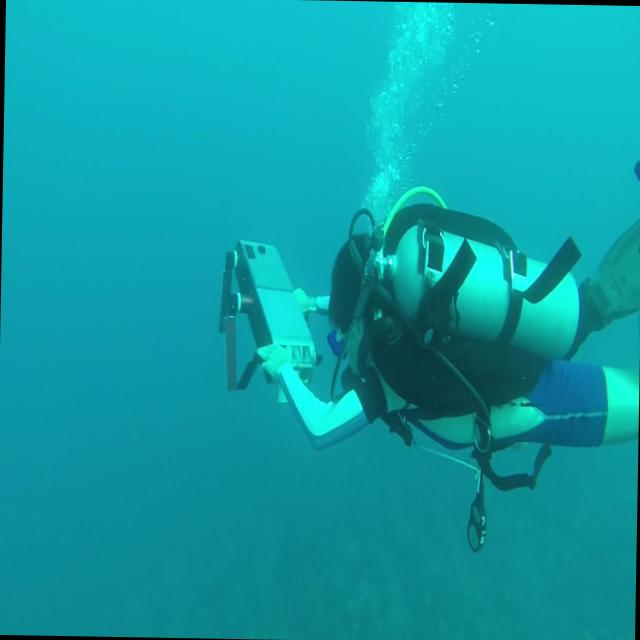human: (249, 128, 640, 553)
